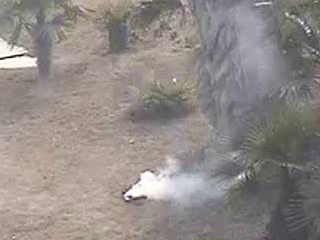smoke: (126, 168, 227, 200)
